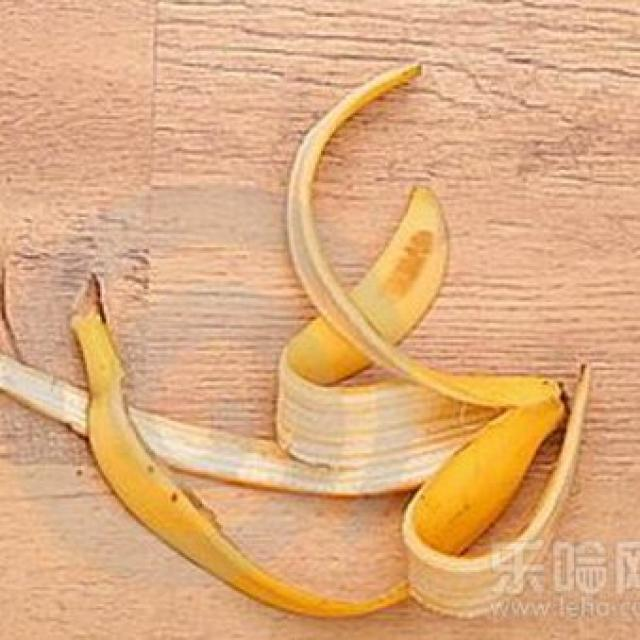-Kitchen waste - fruit-: (67, 59, 590, 619)
